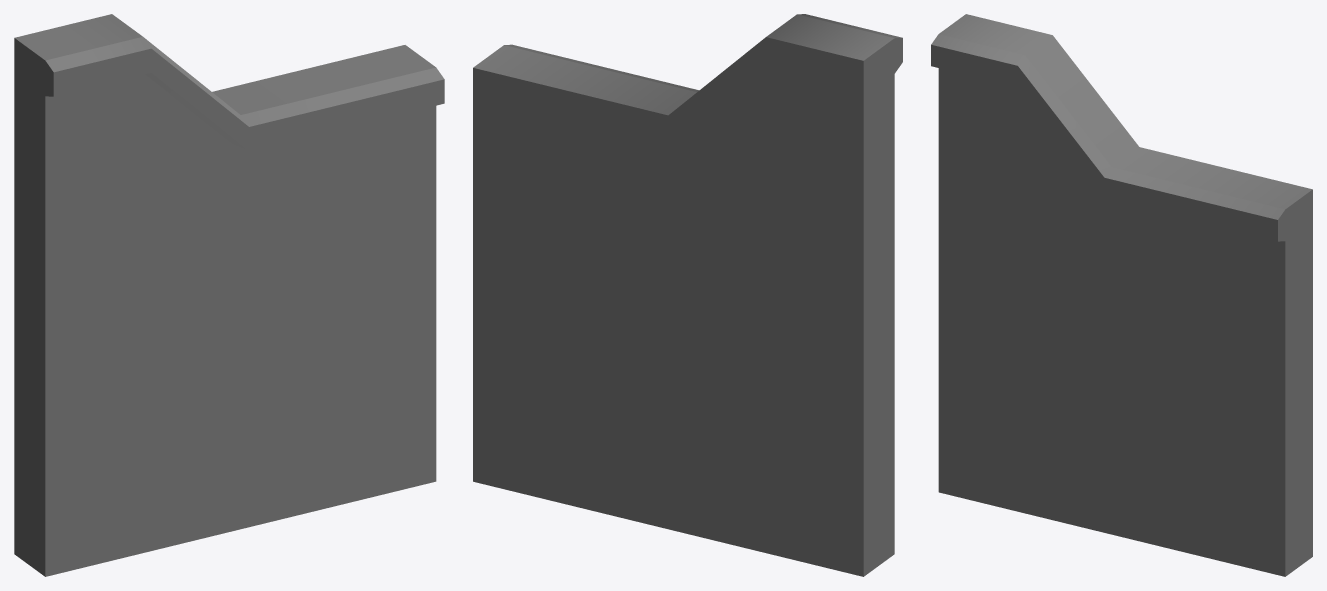
The model's file is Stone Wall 1 U 1 L.fbx.
3 renders of one model, left to right at view 1: azimuth 30°, elevation 25°; view 2: azimuth 150°, elevation 25°; view 3: azimuth 330°, elevation 25°, orthographic. The views are drawn at different scales.
Parts seen in each view (by area): view 1: Stone_Wall_1_U_1_L; view 2: Stone_Wall_1_U_1_L; view 3: Stone_Wall_1_U_1_L.
Boxes of the visible parts, x1=… form: Stone_Wall_1_U_1_L: x1=14, y1=14, x2=444, y2=576; Stone_Wall_1_U_1_L: x1=473, y1=14, x2=902, y2=576; Stone_Wall_1_U_1_L: x1=931, y1=14, x2=1312, y2=576.
Bounding box in the file's own units: 4 × 5.05 × 0.6983.
